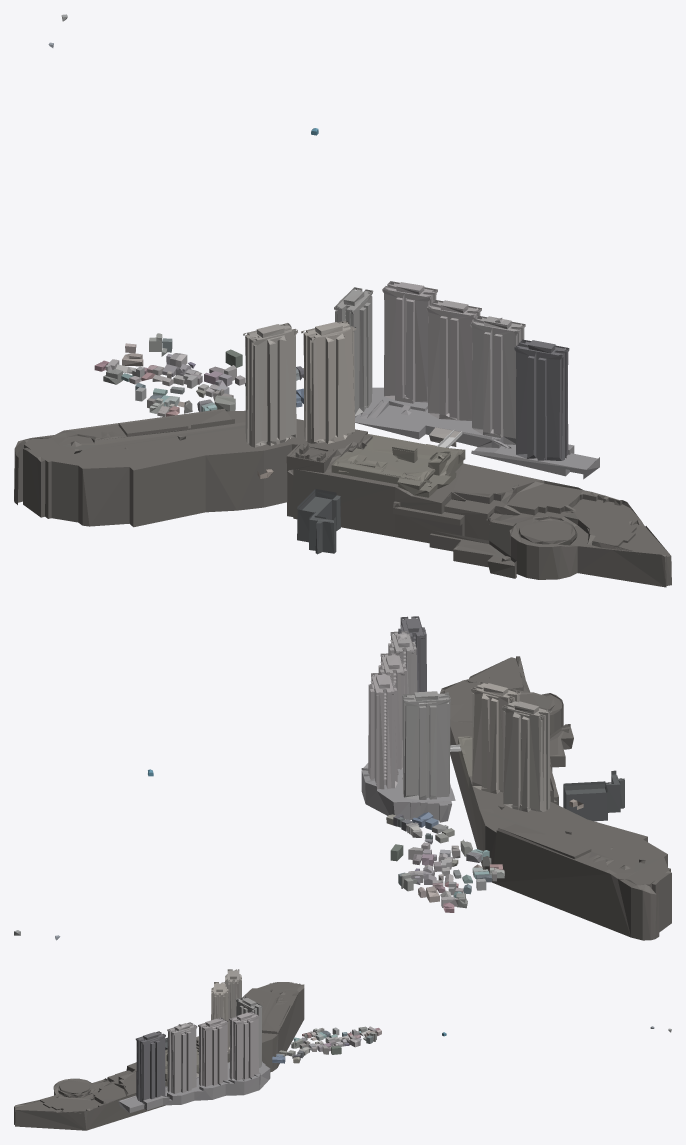
The picture shows the model from 3 angles, top to bottom: view 1: azimuth 30°, elevation 25°; view 2: azimuth 150°, elevation 25°; view 3: azimuth 270°, elevation 25°; orthographic projection. The views are drawn at different scales.
Parts seen in each view (by area): view 1: buildings; view 2: buildings; view 3: buildings.
Part boxes in pixels (bbox=[...]): buildings: bbox=[14, 14, 671, 587]; buildings: bbox=[14, 616, 671, 940]; buildings: bbox=[14, 969, 671, 1130].
Bounding box in the file's own units: 329 × 127 × 754.
